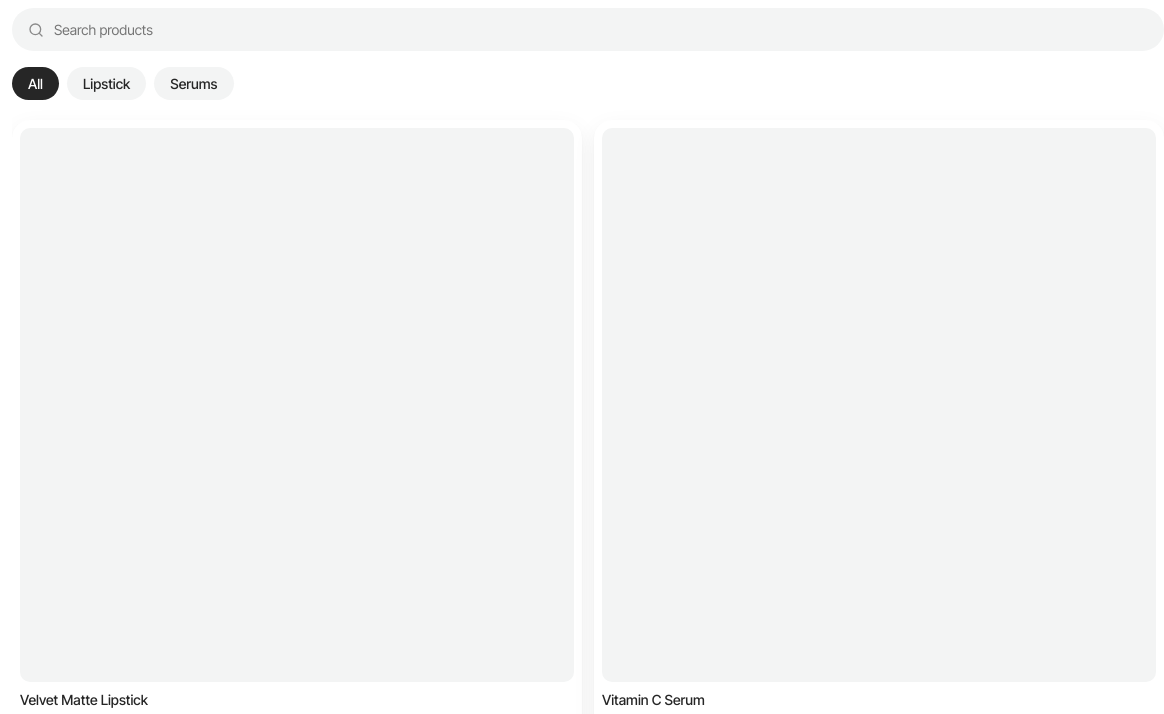
Scenario: CatalogHomeScreen › shows the empty state when nothing matches the search
Expected: the text "Velvet Matte Lipstick" is shown, [20,691,148,708]
Type "zzz" into the search field with placeholder "Search products".
click(600, 30); type("zzz")  # box [52,20,1148,39]
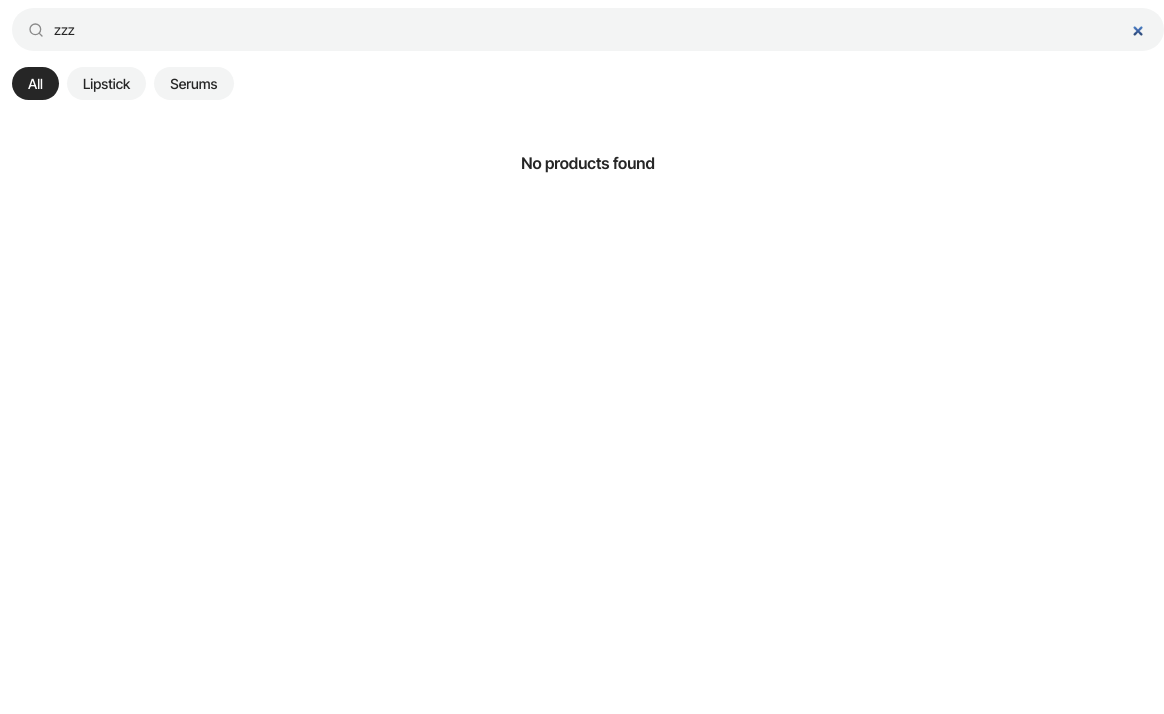
Expected: the text "No products found" is shown, [521,152,655,174]
